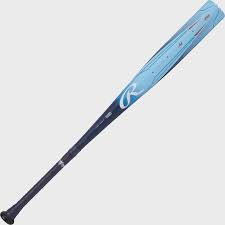baseball bat: (1, 1, 225, 225)
